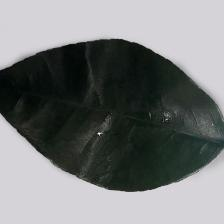healthy: (6, 37, 213, 165)
